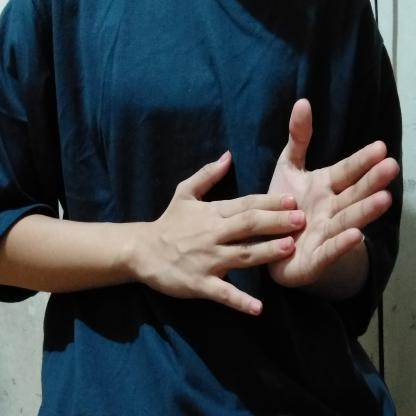mother: (108, 93, 406, 319)
